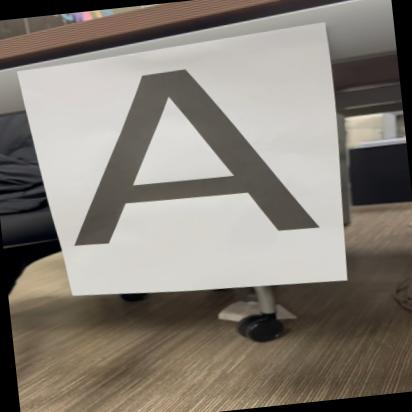seat: (52, 52, 346, 260)
